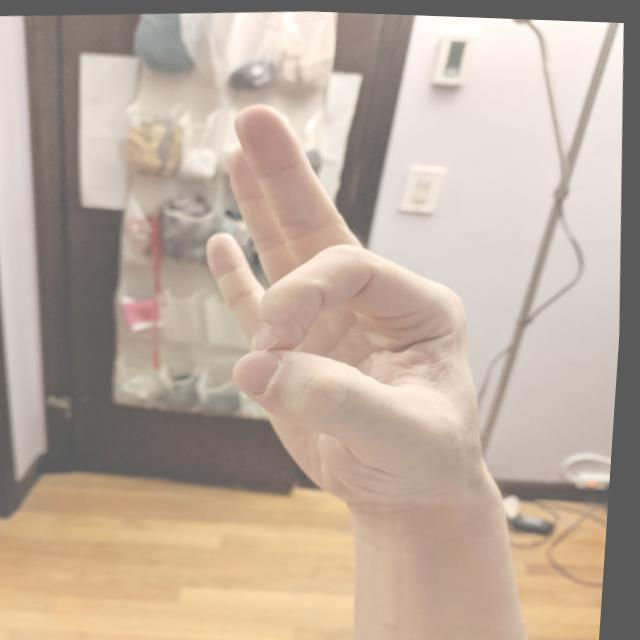F: (176, 83, 524, 533)
